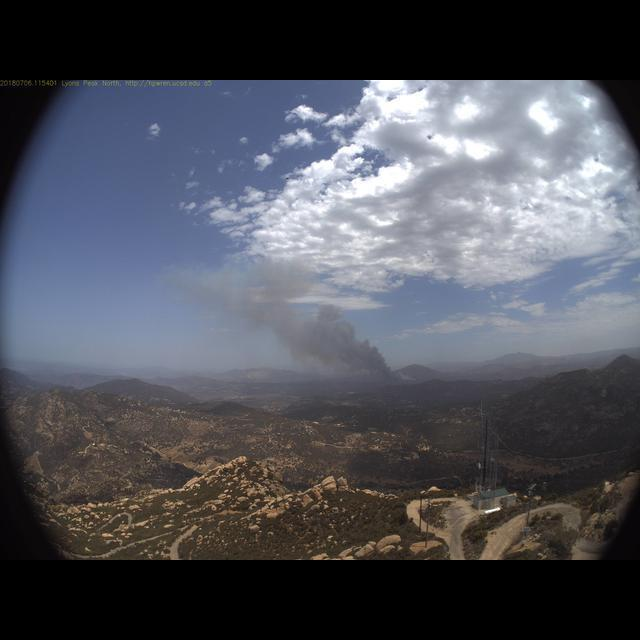Smoke: (158, 246, 421, 400)
